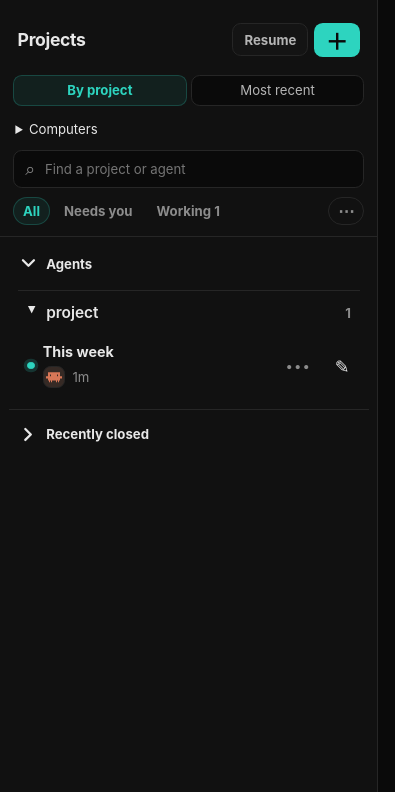
capability: archive from the list › removes the finished session from the list the person is looking at
Click the button "Recently closed". click: (98, 434)
box: [9,417,369,452]
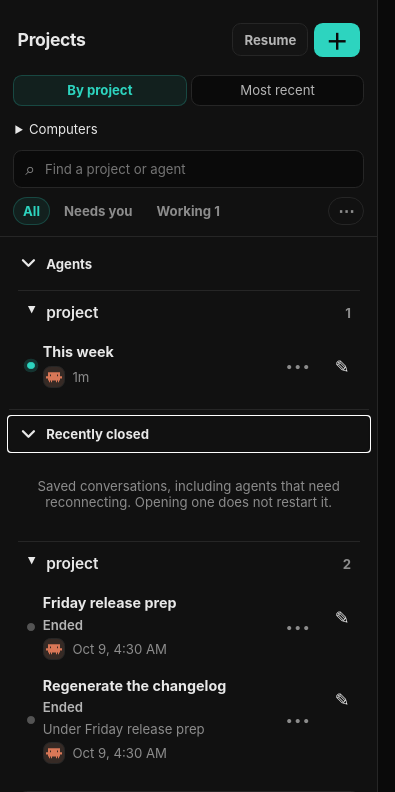
Click the button named "Actions for Friday release prep". click: (298, 627)
box: [282,611,315,644]
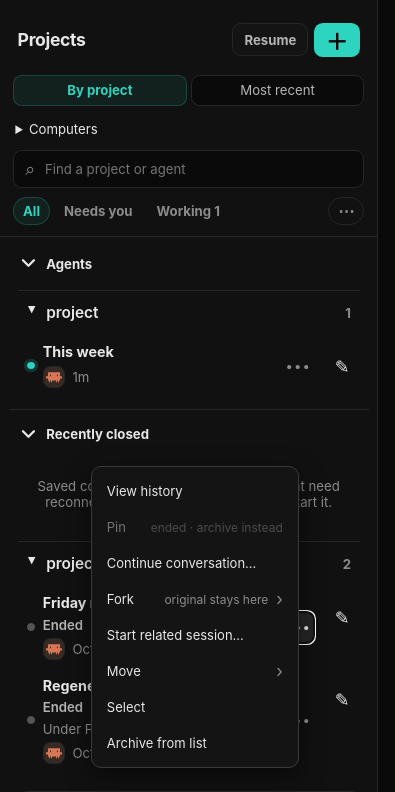
Click the menu item "Archive from list". click: (195, 743)
box: [98,725,292,761]
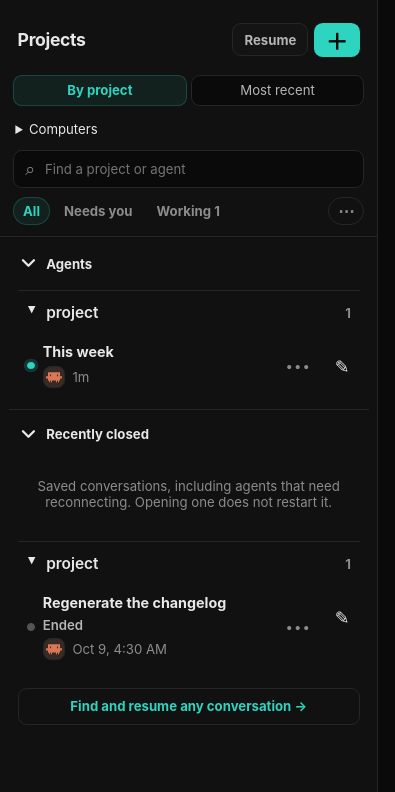
Now the text "Friday release prep" is gone
